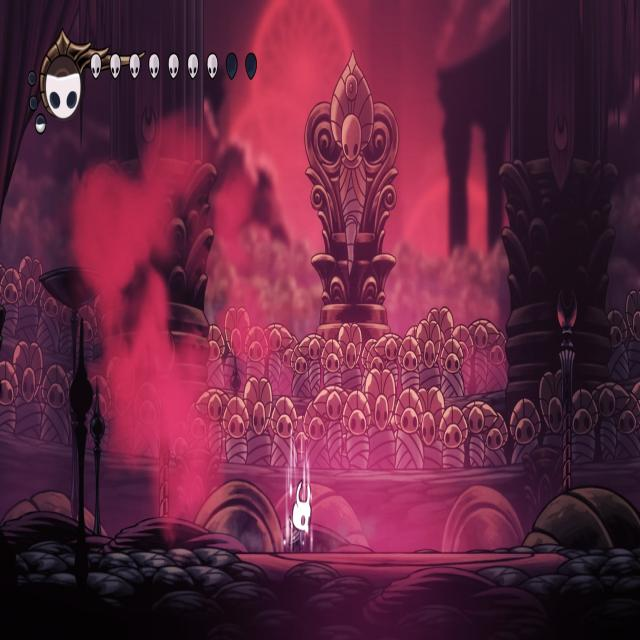Player: (285, 468, 314, 559)
